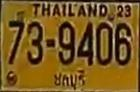0: (95, 22, 112, 64)
3: (26, 20, 42, 63)
4: (76, 21, 92, 65)
6: (114, 22, 130, 64)
7: (8, 20, 23, 64)
9: (58, 20, 74, 63)
CBI: (52, 69, 89, 92)
